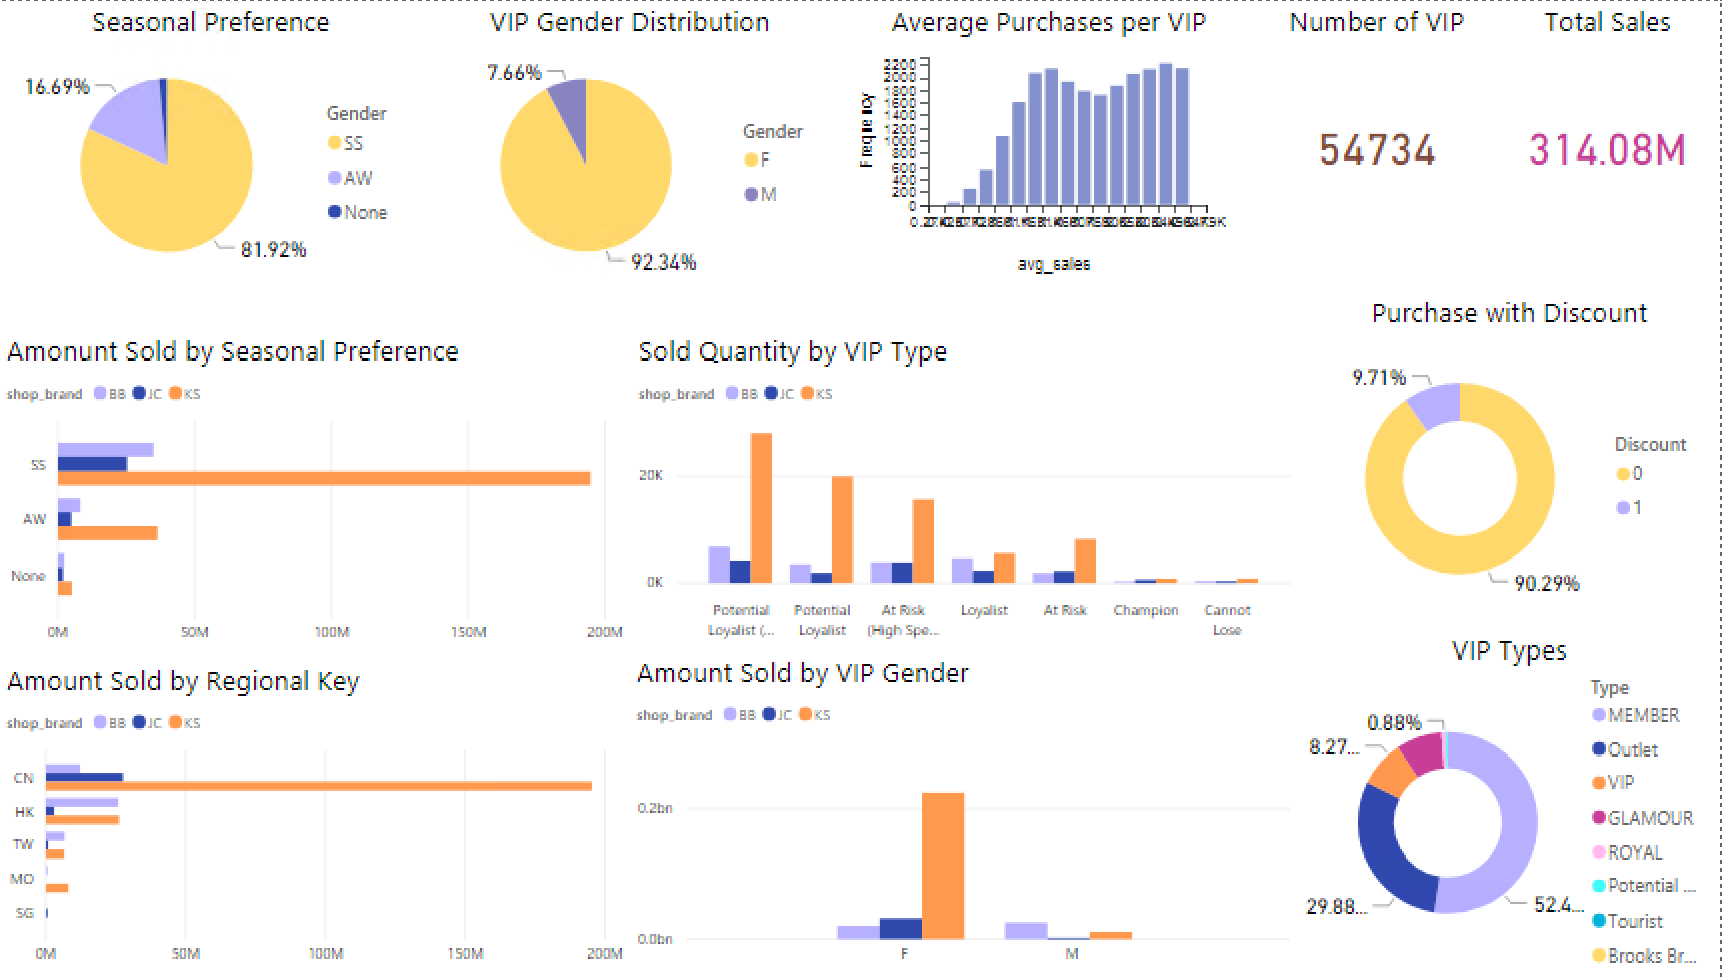

The dashboard page shown, as its layout file describes it:
{"tool":"powerbi","page":{"name":"Page 1","canvas":[1280,720],"ordinal":0},"visuals":[{"type":"card","title":"Total Sales","fields":{"Values":["Sum(Sheet1.amt_HKD)"]},"box":[1111,0,169.3,214.8],"z":0},{"type":"clusteredColumnChart","title":"Amount Sold by VIP Gender","fields":{"Y":["Sum(Sheet1.amt_HKD)"],"Category":["Sheet1.vip_sex"],"Series":["Sheet1.shop_brand"]},"box":[469.2,478.6,496.3,241.4],"z":9},{"type":"clusteredColumnChart","title":"Sold Quantity by VIP Type","fields":{"Series":["Sheet1.shop_brand"],"Y":["Sum(Sheet1.sold_qty)"],"Category":["Sheet1.segment"]},"box":[469.4,242.3,495.6,235.4],"z":10},{"type":"Histogram1445664487616","title":"Average Purchases per VIP","fields":{"Values":["Sheet1.avg_sales"],"Frequency":["CountNonNull(Sheet1.avg_sales)"]},"box":[623.6,0,313.9,214.8],"z":1000},{"type":"clusteredBarChart","title":"Amonunt Sold by Seasonal Preference","fields":{"Category":["Sheet1.seasonal_pref"],"Y":["Sum(Sheet1.amt_HKD)"],"Series":["Sheet1.shop_brand"]},"box":[0,242.7,469.2,241.4],"z":2000},{"type":"clusteredBarChart","title":"Amount Sold by Regional Key","fields":{"Category":["Sheet1.region_key"],"Y":["Sum(Sheet1.amt_HKD)"],"Series":["Sheet1.shop_brand"]},"box":[0,484.6,469.4,235.4],"z":3000},{"type":"card","title":"Number of VIP","fields":{"Values":["CountNonNull(Sheet1.amt_HKD)"]},"box":[937.5,0,173.5,214.8],"z":4000},{"type":"pieChart","title":"VIP Gender Distribution","fields":{"Y":["CountNonNull(Sheet1.vip_sex)"],"Series":["Sheet1.vip_sex"]},"box":[313.9,0,309.8,214.8],"z":5000},{"type":"pieChart","title":"Seasonal Preference","fields":{"Series":["Sheet1.seasonal_pref"],"Y":["CountNonNull(Sheet1.seasonal_pref)"]},"box":[0,0,313.9,214.8],"z":6000},{"type":"donutChart","title":"Purchase with Discount","fields":{"Series":["Sheet1.is_discount_savvy"],"Y":["CountNonNull(Sheet1.is_discount_savvy)"]},"box":[965.4,214.2,314.6,248.1],"z":7000},{"type":"donutChart","title":"VIP Types","fields":{"Y":["CountNonNull(Sheet1.is_discount_savvy)"],"Series":["Sheet1.vip_type"]},"box":[965.4,462.4,314.6,257.6],"z":7001}]}

Visuals, with their boxes in screenshot pixels (x1, y1, x2, y2), scaled from the page's 1280x720 canvas onto the 1722x978 screenshot:
"Total Sales" card: Rect(1495, 0, 1721, 292)
"Amount Sold by VIP Gender" clusteredColumnChart: Rect(631, 650, 1299, 977)
"Sold Quantity by VIP Type" clusteredColumnChart: Rect(631, 329, 1298, 649)
"Average Purchases per VIP" Histogram1445664487616: Rect(839, 0, 1261, 292)
"Amonunt Sold by Seasonal Preference" clusteredBarChart: Rect(0, 330, 631, 658)
"Amount Sold by Regional Key" clusteredBarChart: Rect(0, 658, 631, 977)
"Number of VIP" card: Rect(1261, 0, 1495, 292)
"VIP Gender Distribution" pieChart: Rect(422, 0, 839, 292)
"Seasonal Preference" pieChart: Rect(0, 0, 422, 292)
"Purchase with Discount" donutChart: Rect(1299, 291, 1721, 628)
"VIP Types" donutChart: Rect(1299, 628, 1721, 977)
